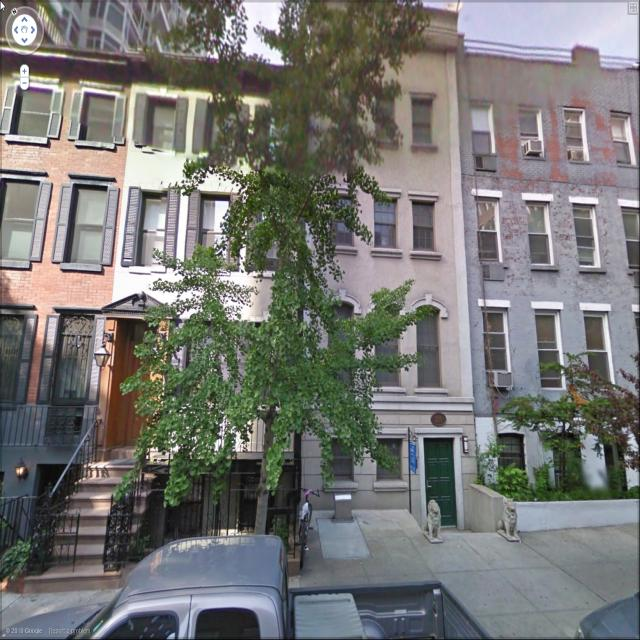b_1: (466, 42, 640, 490), (0, 49, 140, 472)
b_2: (303, 11, 477, 556), (111, 54, 306, 528)
